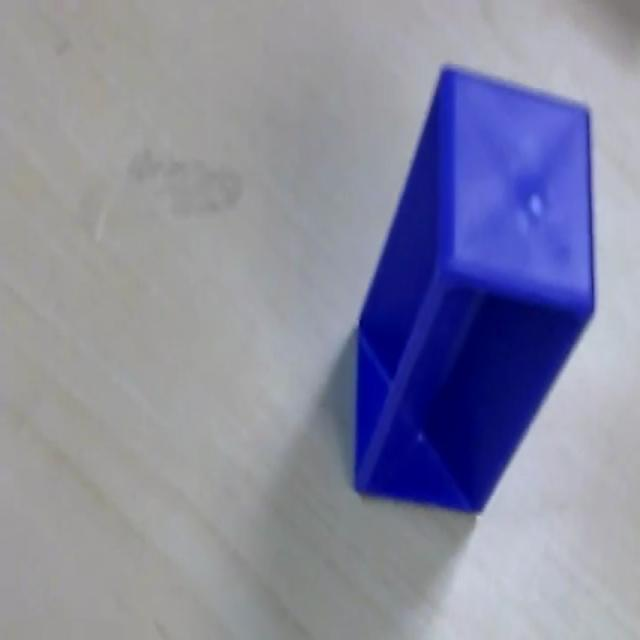blue_block: (351, 60, 598, 515)
